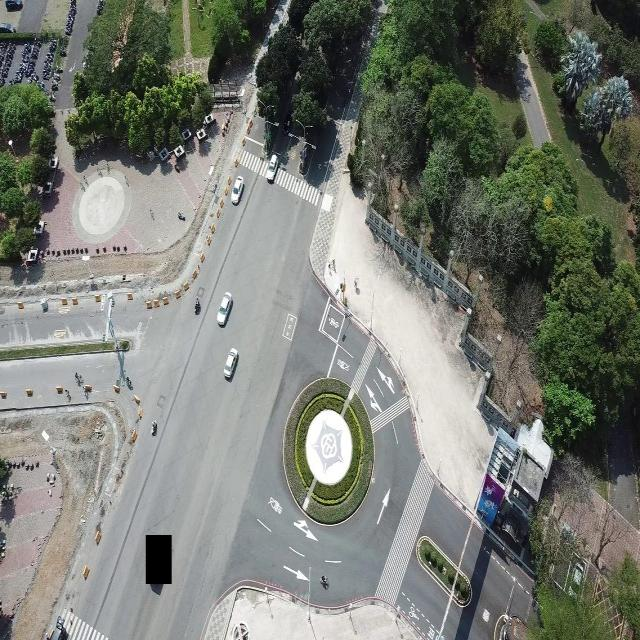bike: (316, 562, 335, 600), (151, 415, 158, 440), (194, 295, 200, 317)
car: (217, 291, 233, 327), (223, 347, 239, 379), (231, 175, 244, 205), (266, 153, 278, 183)
